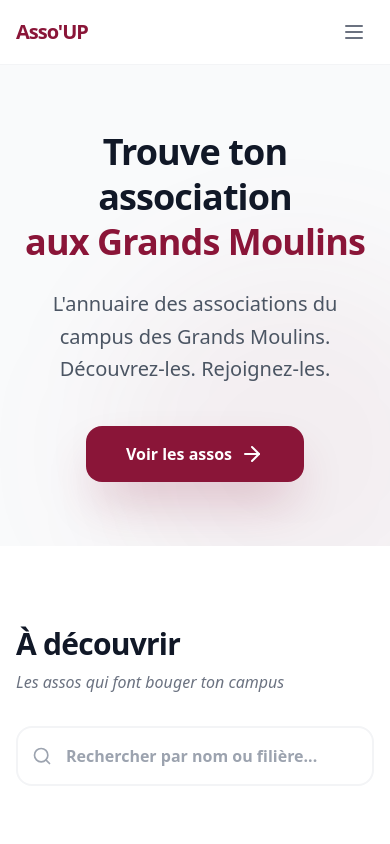
Test: le menu mobile se ferme à la navigation
Click the button named "Ouvrir le menu": (354, 32) [334,12,374,52]
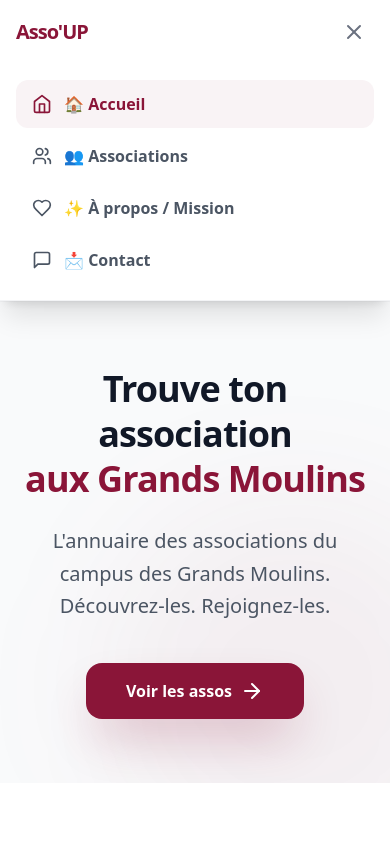
Now the button named "Fermer le menu" is expanded, box [334,12,374,52]
Now the button "📩 Contact" is shown
Click the button "📩 Contact": (107, 260) [16,236,374,284]
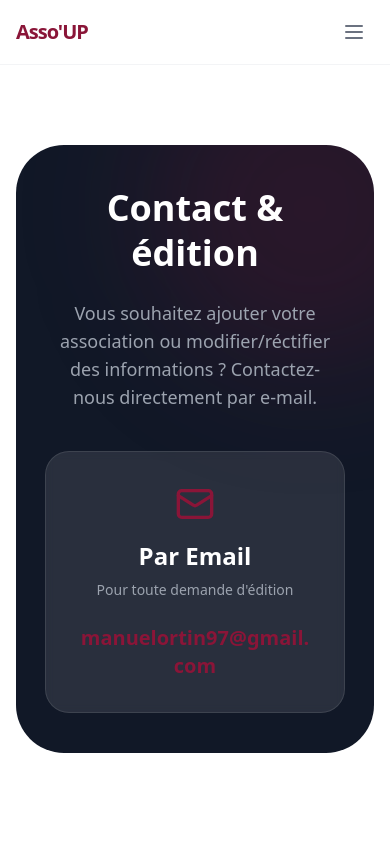
Now the button named "Ouvrir le menu" is collapsed, box [334,12,374,52]
Now the heading "Contact & édition" is shown, box [107,183,283,277]
